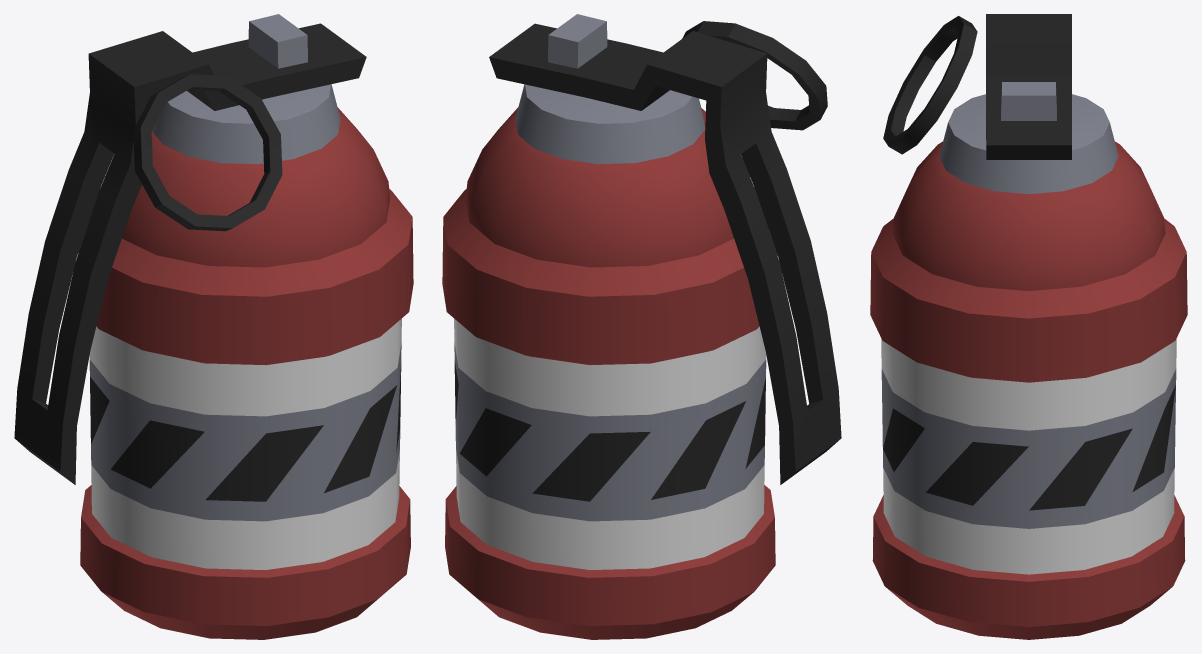
File: FireGrenade.glb
3 renders of one model, left to right at view 1: azimuth 30°, elevation 25°; view 2: azimuth 150°, elevation 25°; view 3: azimuth 270°, elevation 25°, orthographic. The views are drawn at different scales.
Visible parts, largest first — view 1: FireGrenade; view 2: FireGrenade; view 3: FireGrenade.
Part boxes in pixels (left/top/right/bottom): FireGrenade: left=14, top=14, right=413, bottom=639; FireGrenade: left=442, top=14, right=841, bottom=639; FireGrenade: left=870, top=14, right=1187, bottom=639.
Bounding box in the file's own units: 0.5695 × 0.85 × 0.4706.
